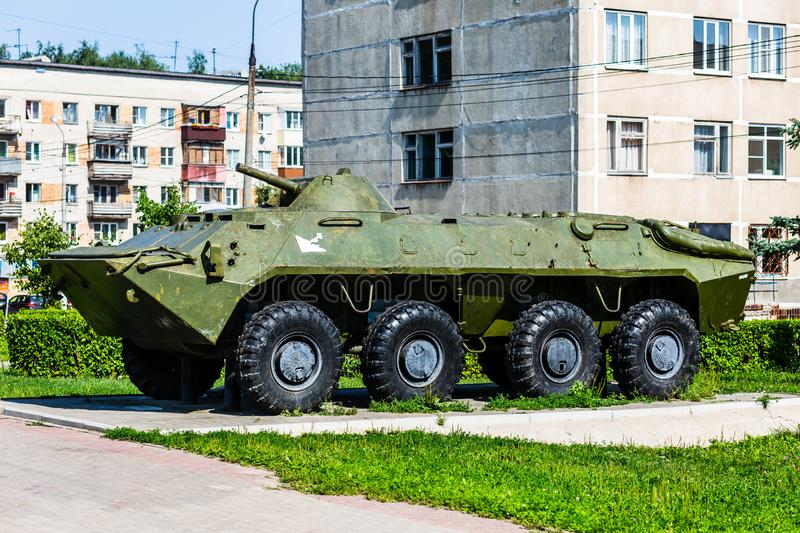btr80: (48, 161, 749, 398)
